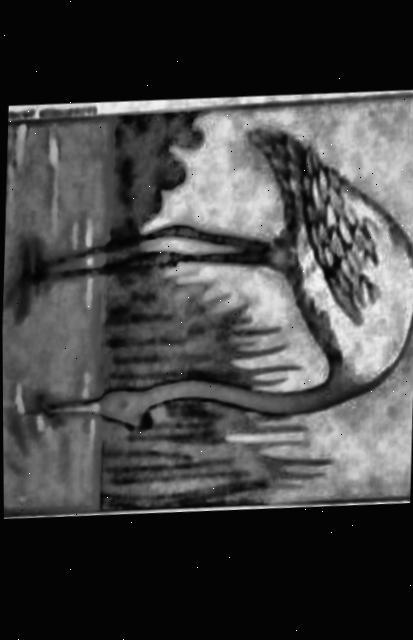El Garza: (2, 104, 413, 515)
